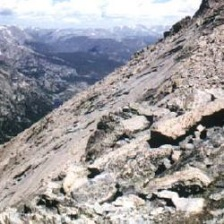neutral: (1, 9, 224, 215)
